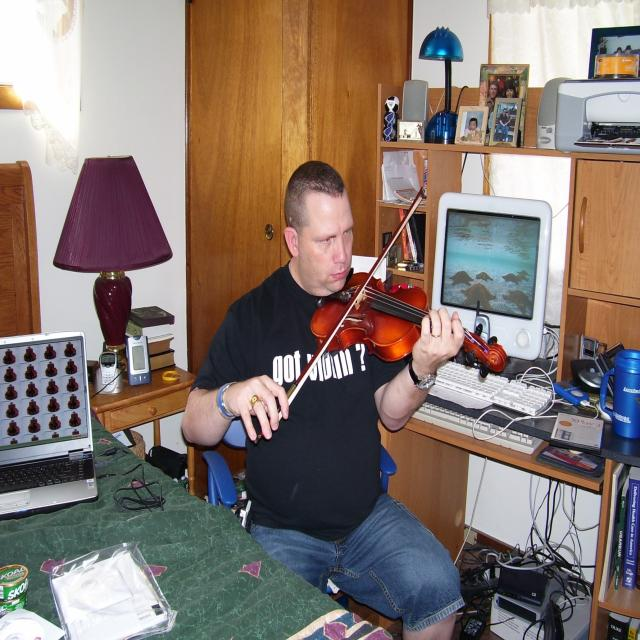violin: (310, 268, 509, 388)
